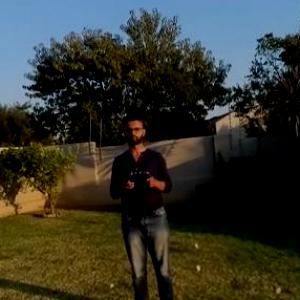follow: (100, 107, 184, 299)
